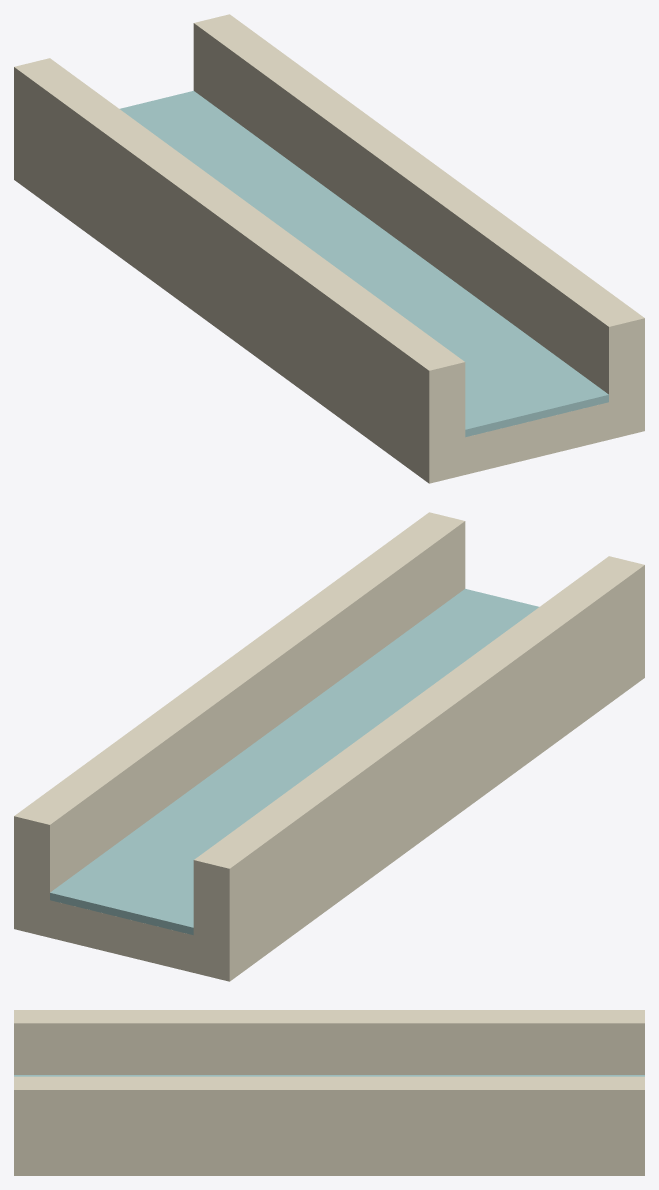
The model's file is cozy-farm-and-homestead-irrigation-trough-4a6f73fe__19373.glb.
3 renders of one model, top to bottom at view 1: azimuth 30°, elevation 25°; view 2: azimuth 150°, elevation 25°; view 3: azimuth 270°, elevation 25°, orthographic. The views are drawn at different scales.
Parts seen in each view (by area): view 1: irrigation-trough; view 2: irrigation-trough; view 3: irrigation-trough.
Boxes of the visible parts, bbox=[...] form: irrigation-trough: bbox=[14, 14, 644, 483]; irrigation-trough: bbox=[14, 512, 644, 981]; irrigation-trough: bbox=[14, 1010, 644, 1175].
Bounding box in the file's own units: 0.5999 × 0.3001 × 2.
